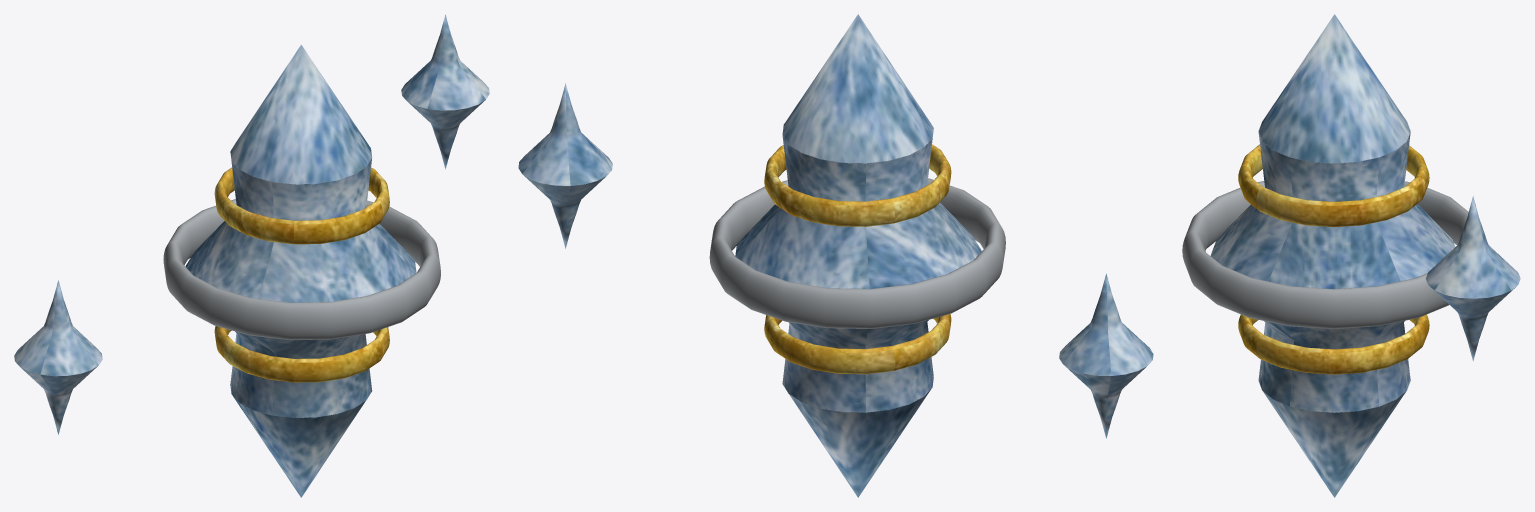
Rendered from enemy_wanderer.obj.
3 views of the same model, side by side, from view 1: azimuth 30°, elevation 25°; view 2: azimuth 150°, elevation 25°; view 3: azimuth 270°, elevation 25° (orthographic). The views are drawn at different scales.
Parts seen in each view (by area): view 1: polySurface2; view 2: polySurface2; view 3: polySurface2.
Boxes of the visible parts, <box> form: polySurface2: <box>14,14,489,497</box>; polySurface2: <box>518,14,1153,497</box>; polySurface2: <box>1182,14,1520,497</box>.
Bounding box in the file's own units: 2.9 × 2.4 × 1.52.
